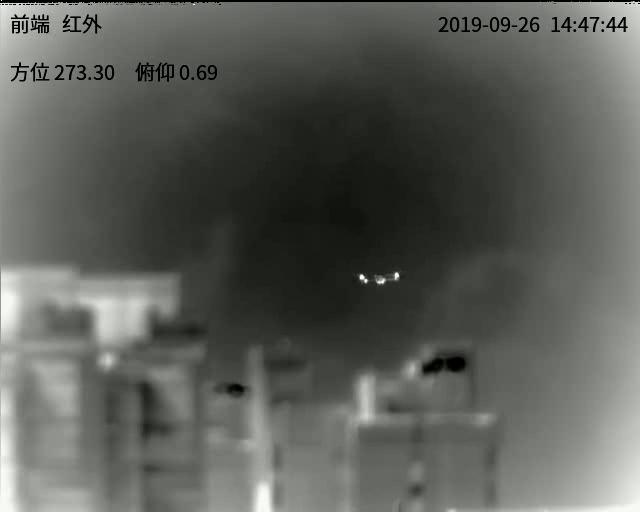DRONE: (357, 270, 401, 287)
